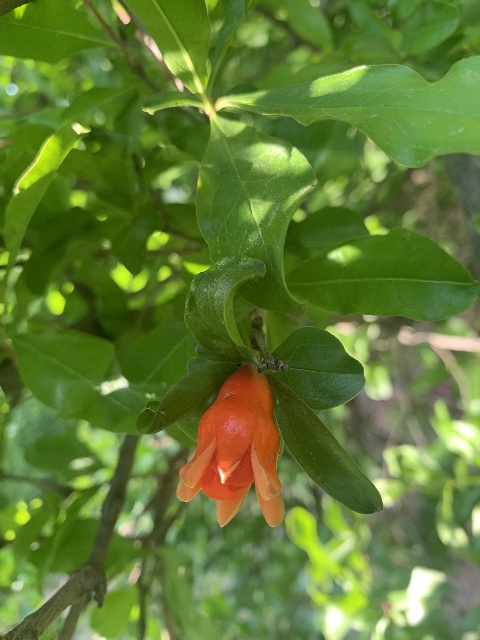flower: (176, 364, 286, 527)
